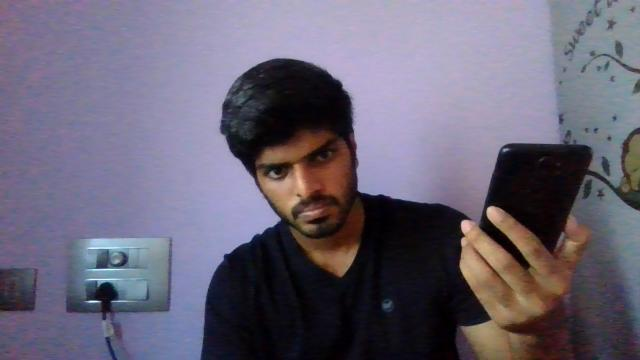PhoneUse: (476, 142, 592, 270)
SafeDriving: (305, 143, 338, 170), (260, 160, 293, 182)
